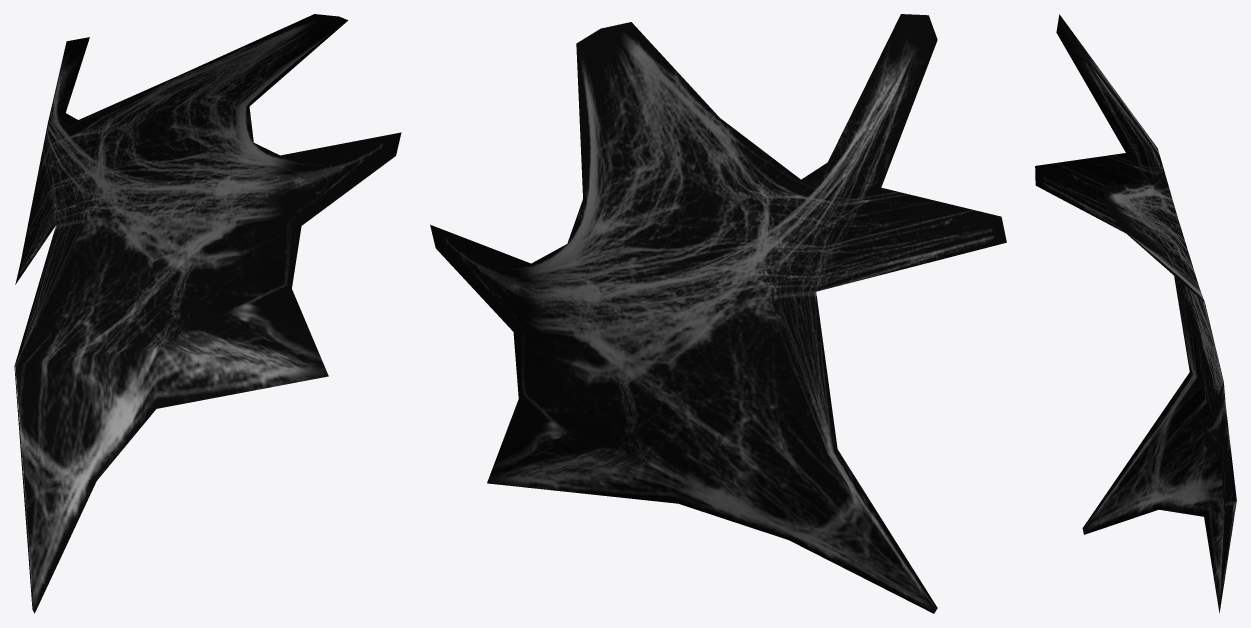
File: Cobweb_01.fbx
3 views of the same model, side by side, from view 1: azimuth 30°, elevation 25°; view 2: azimuth 150°, elevation 25°; view 3: azimuth 270°, elevation 25° (orthographic). The views are drawn at different scales.
Visible parts, largest first — view 1: polySurface4; view 2: polySurface4; view 3: polySurface4.
Part boxes in pixels (x1,y1,x2,y2): polySurface4: (14,14,401,613); polySurface4: (430,14,1006,613); polySurface4: (1035,14,1236,613).
Size of the model in its own units: 79.98 by 92.31 by 31.89.
1 material, 1 textured.
